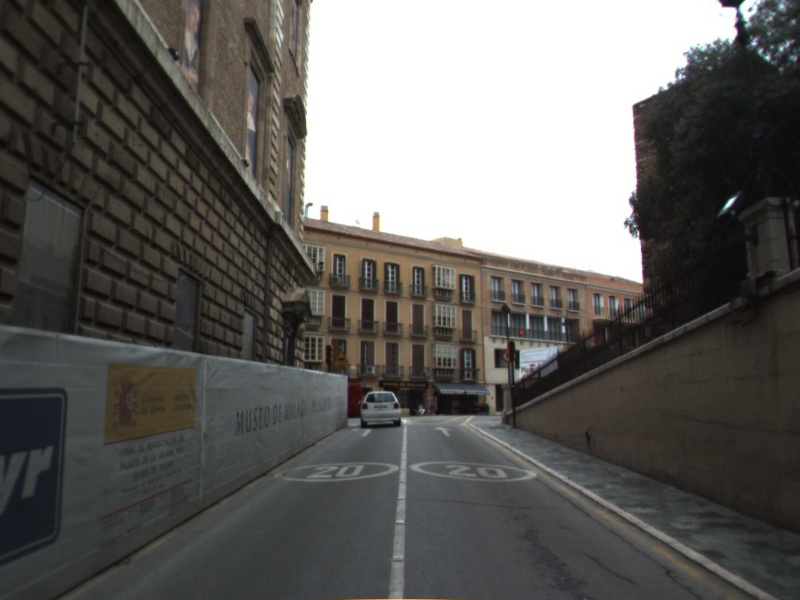LEFT: (350, 425, 375, 438)
STRAIGHT: (431, 424, 455, 438)
